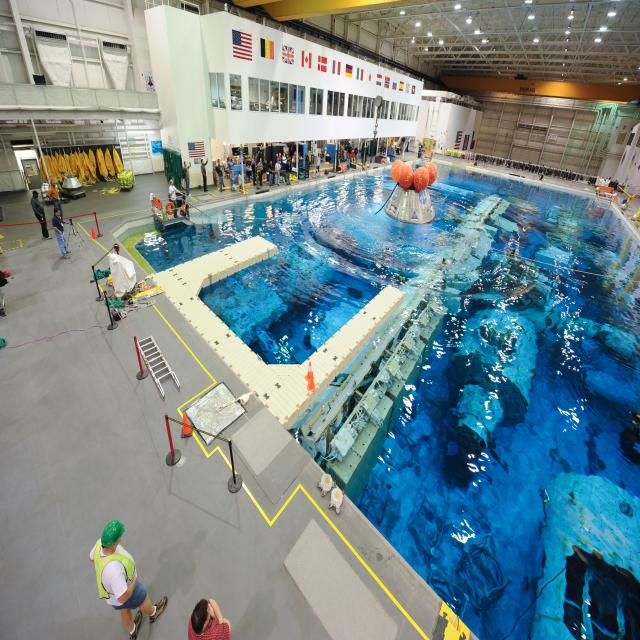Orange_colored_life-ring: (166, 201, 175, 217)
Orion_capsule_mockup_(WEST)_located_on_far_end_of_pool: (384, 159, 438, 225)
